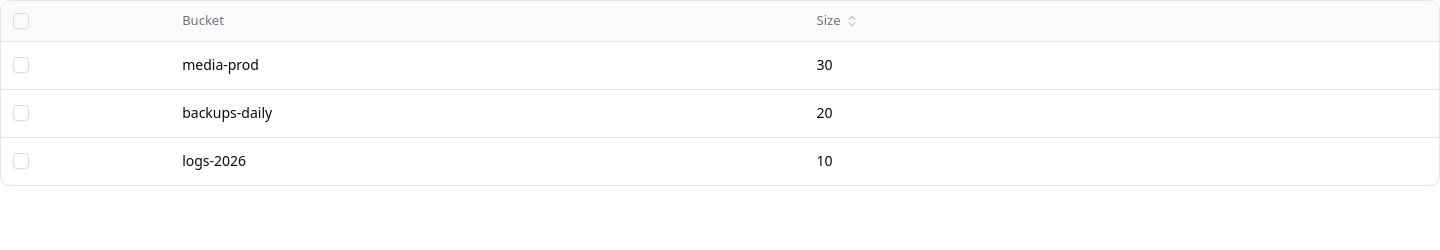
Test case: DataTable selection › selects and clears every row from the header checkbox
Click the checkbox named "Select all rows" at point(21, 21), box [13, 13, 29, 29]
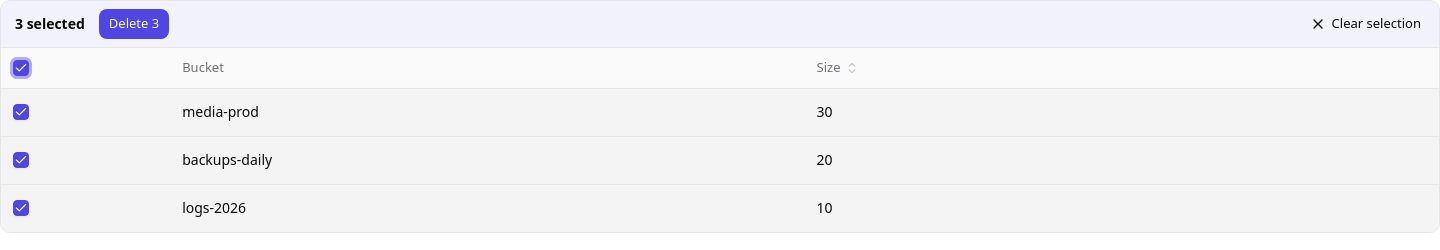
Expected: the text "3 selected" is shown, [11, 14, 93, 34]
Click the checkbox named "Select all rows" at point(21, 68), box [13, 60, 29, 76]
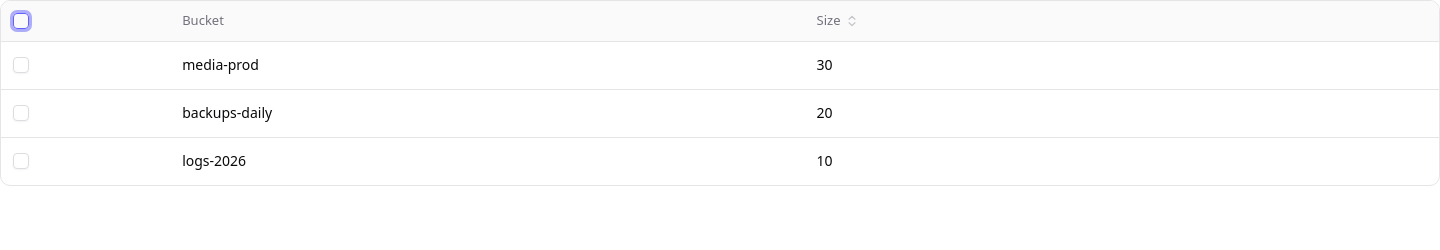
Expected: the text "selected" is gone
